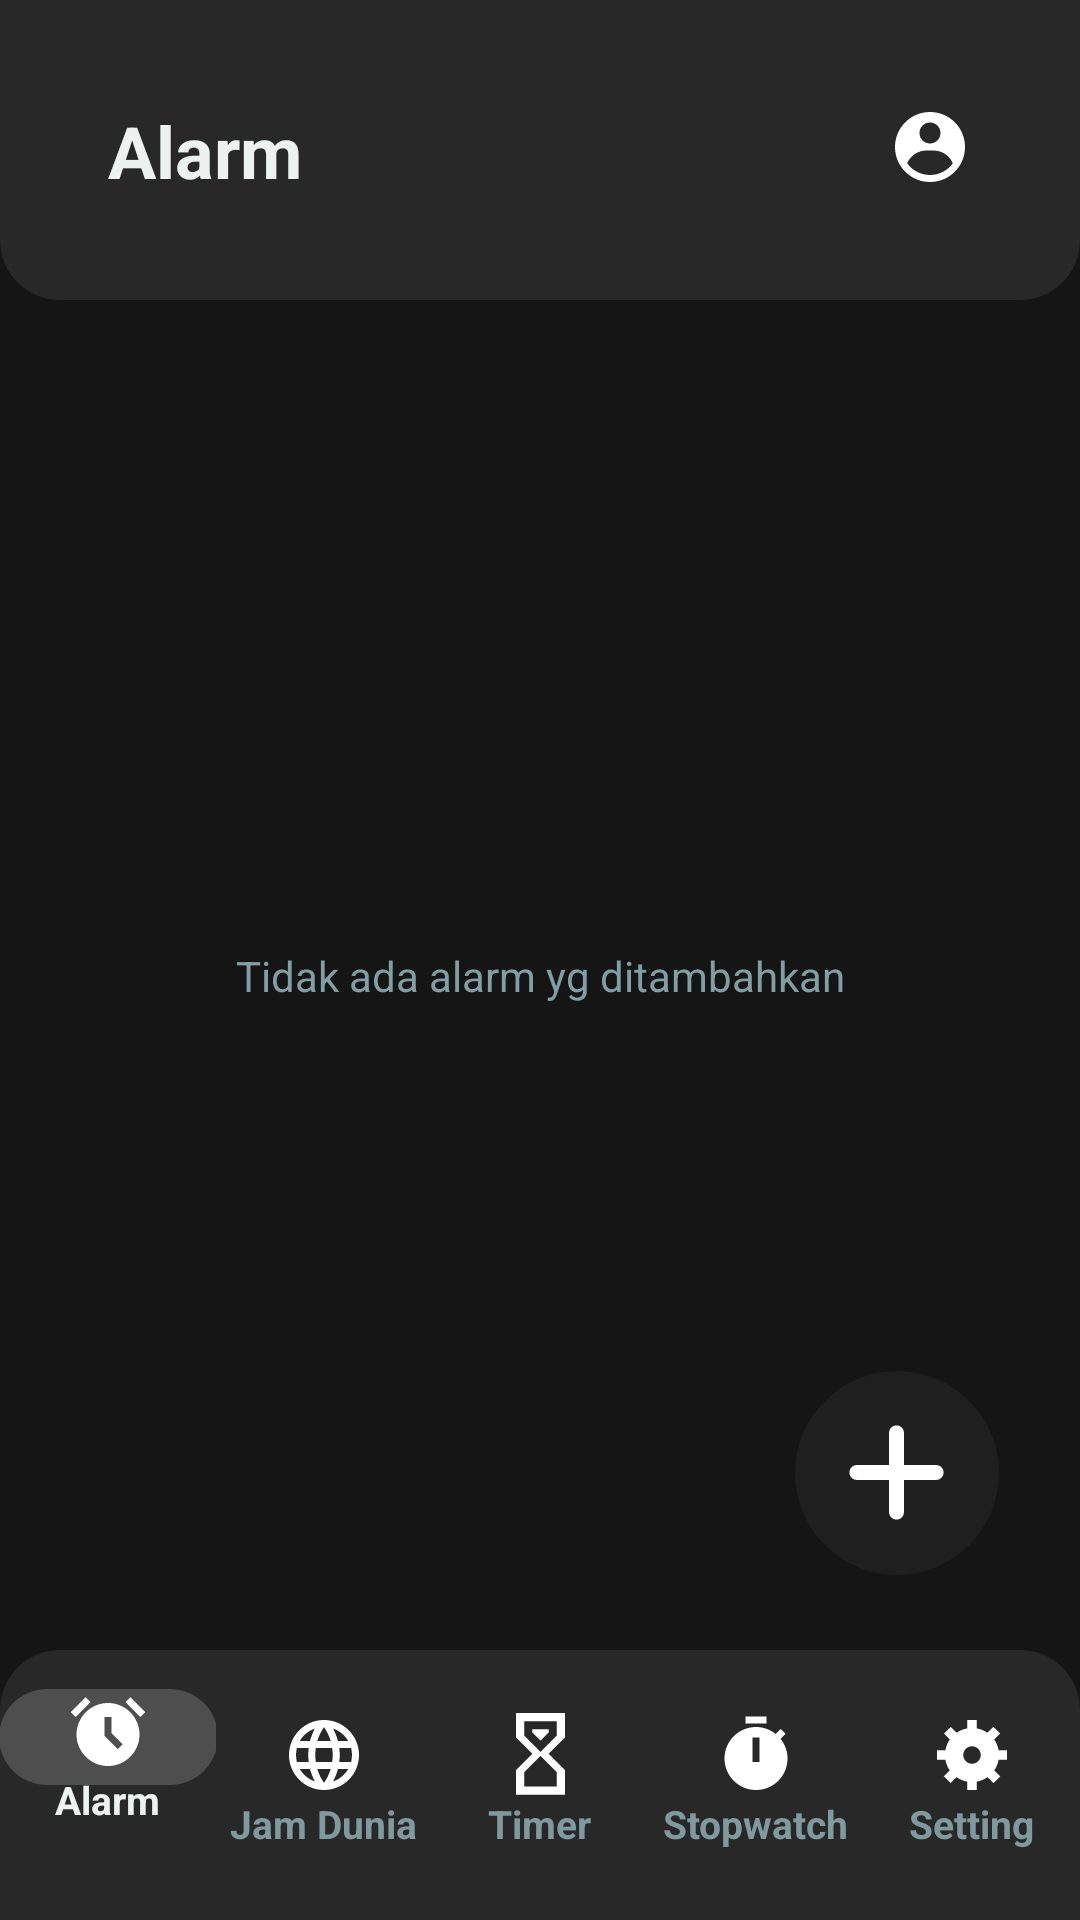

Icons on this 1080px x 1920px Android screen, each with the point to tap as [x,y]:
plus: [896,1472]
profile: [930,147]
